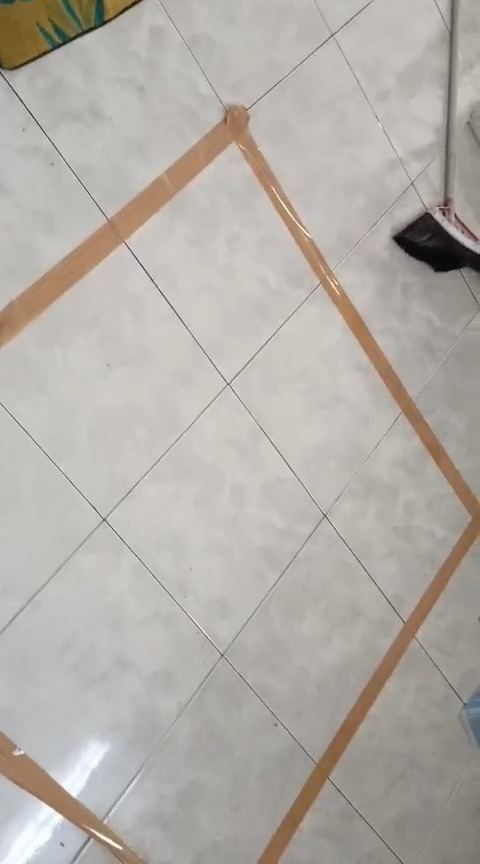floor marking: (0, 107, 479, 863), (0, 733, 141, 863)
